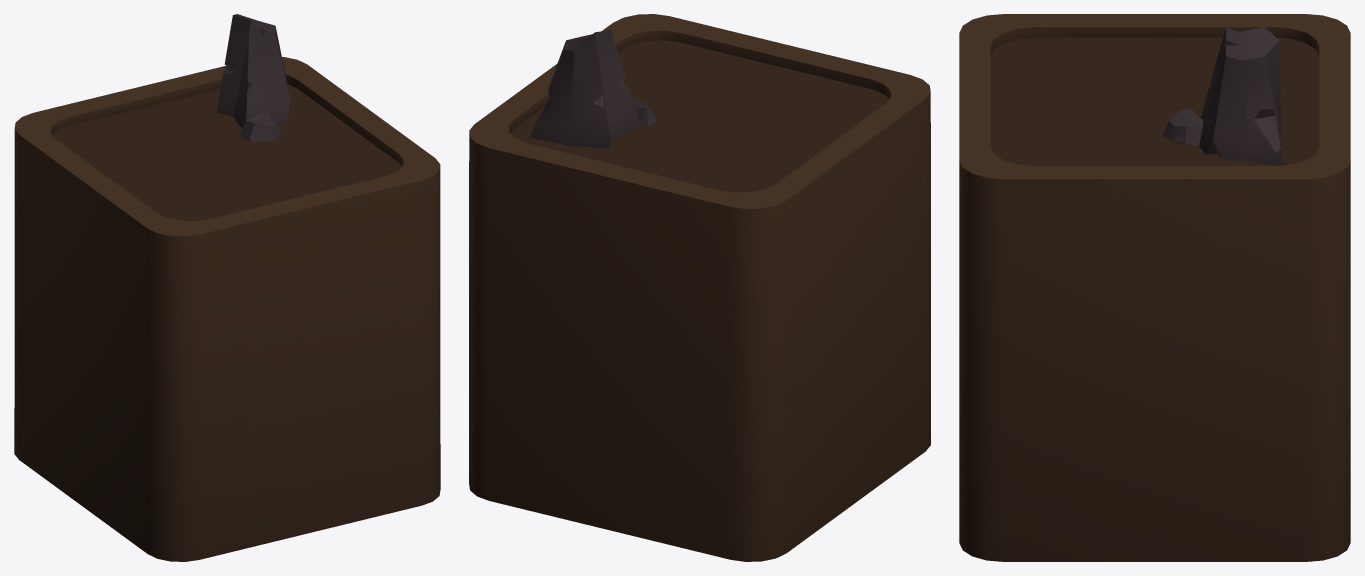
Rendered from Forest 2.fbx.
3 views of the same model, side by side, from view 1: azimuth 30°, elevation 25°; view 2: azimuth 150°, elevation 25°; view 3: azimuth 270°, elevation 25° (orthographic). The views are drawn at different scales.
Visible parts, largest first — view 1: Forest Tile 2, Rock_2.002; view 2: Forest Tile 2, Rock_2.002; view 3: Forest Tile 2, Rock_2.002.
Boxes of the visible parts, box(x1,y1,x2,y2) form: Forest Tile 2: box(14, 57, 440, 561); Rock_2.002: box(216, 14, 290, 141); Forest Tile 2: box(469, 14, 930, 561); Rock_2.002: box(530, 30, 657, 148); Forest Tile 2: box(959, 14, 1350, 561); Rock_2.002: box(1163, 27, 1283, 165).
Bounding box in the file's own units: 2000 × 2721 × 2000.
